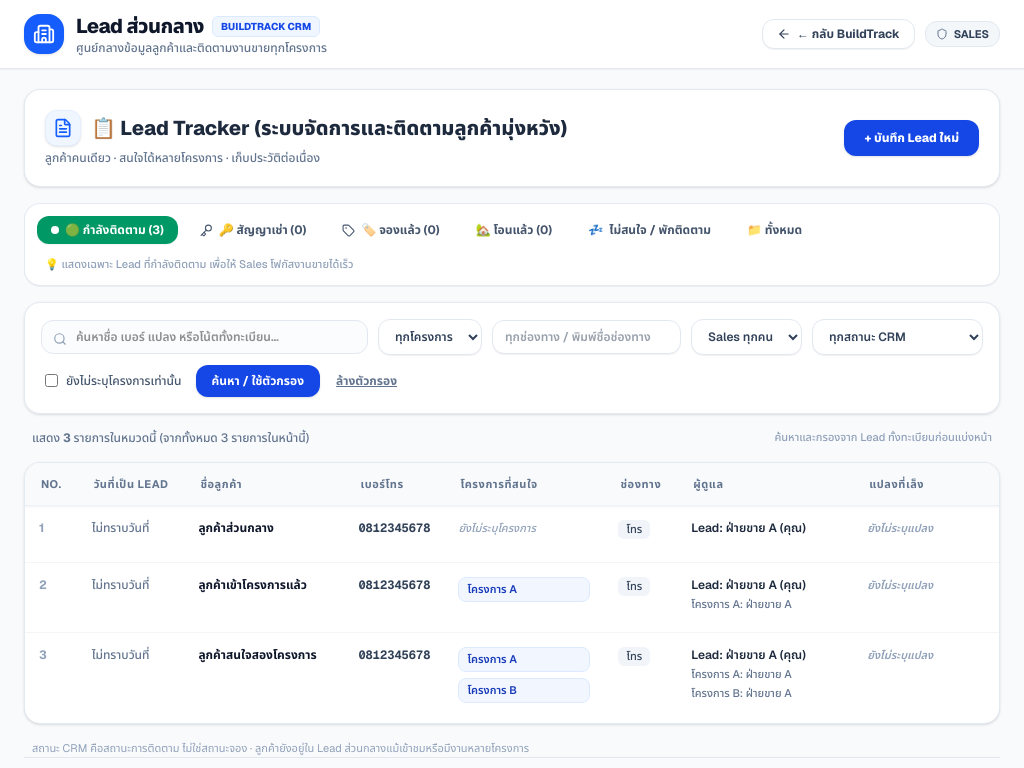
Test case: central lead workspace › keeps applied whole-registry filters on page changes and does not claim total count
Expected: the table is shown, [25,462,999,723]
Select "โครงการ B" in the dropdown named "โครงการที่สนใจ" at x=430, y=336, box [378,318,482,354]
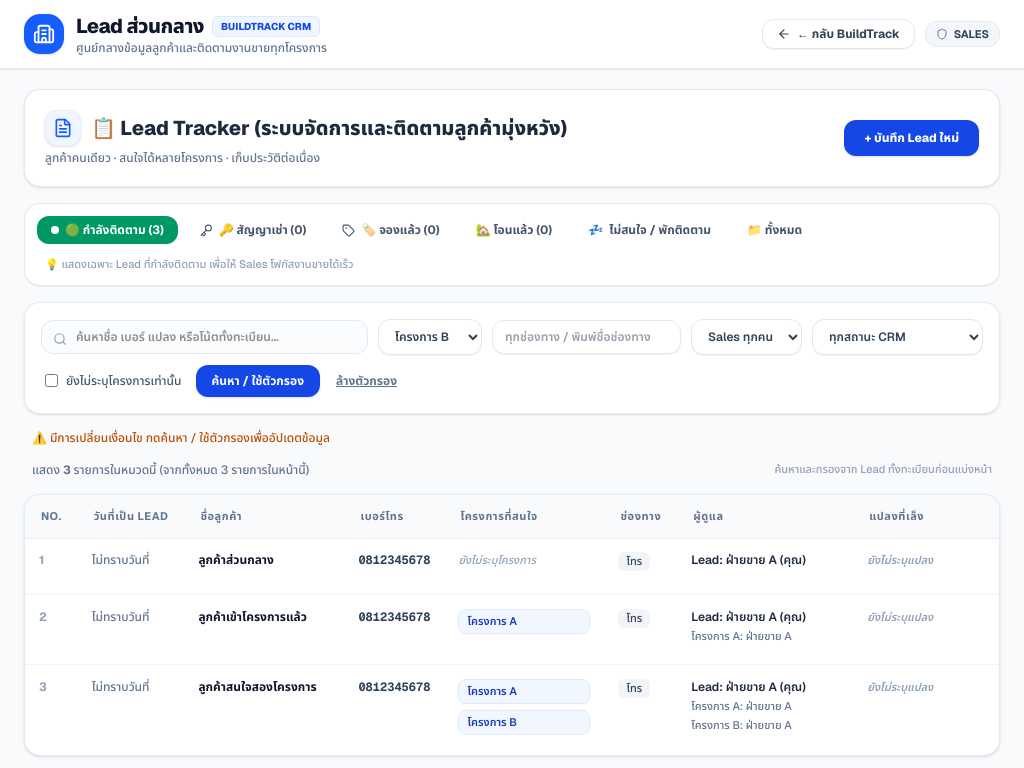
Click the button "ค้นหา / ใช้ตัวกรอง" at x=258, y=380, box [196,364,320,396]
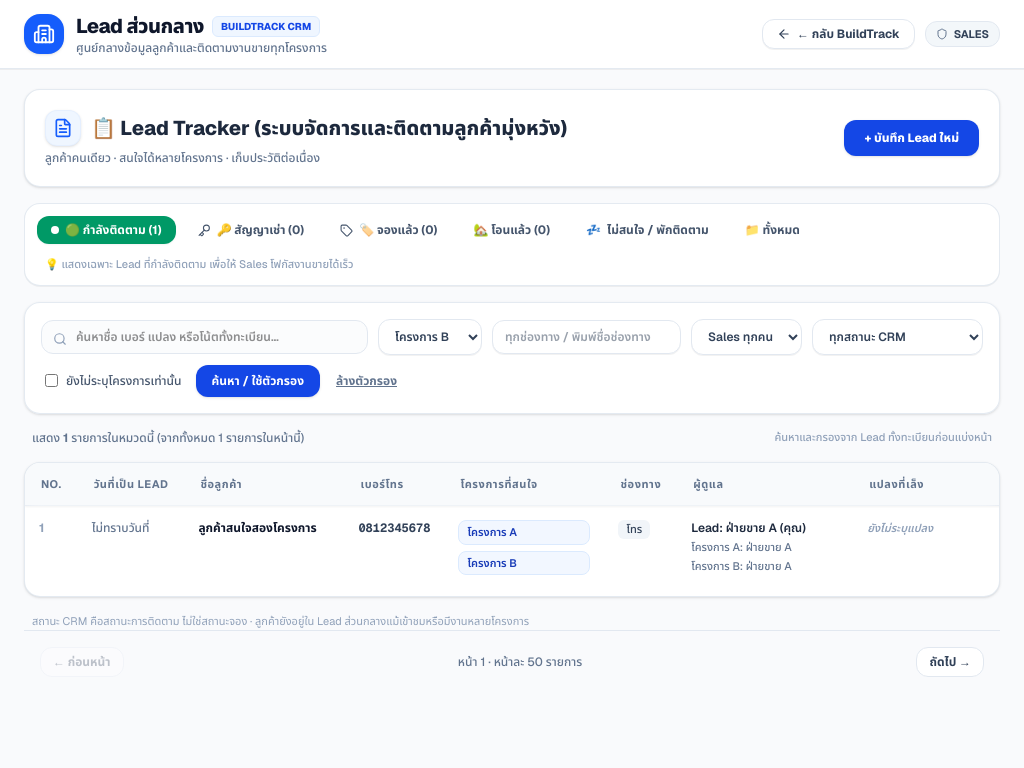
Expected: the table is shown, [25,462,999,596]
Click the button "ถัดไป →" at x=950, y=662, box [916,647,984,677]
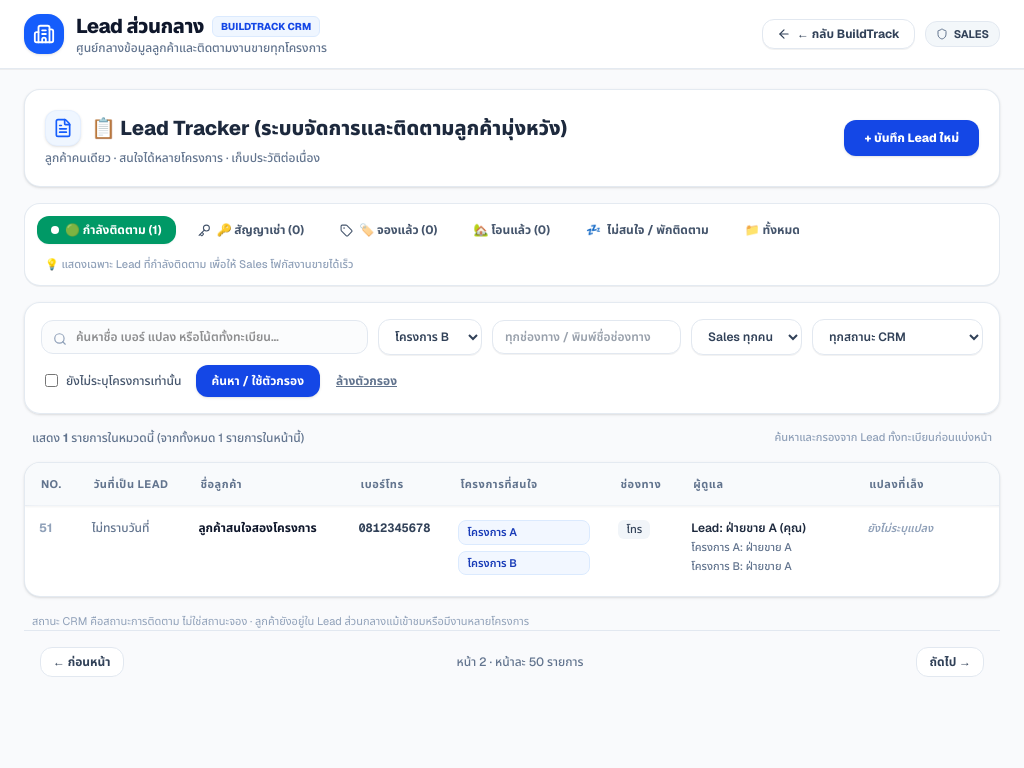
Expected: the text "ค้นหาและกรองจาก Lead ทั้งทะเบียนก่อนแบ่งหน้า" is shown, [774,430,992,445]
Now the dropdown named "โครงการที่สนใจ" shows "โครงการ B", box [378,318,482,354]
Now the text "หน้า 2 · หน้าละ 50 รายการ" is shown, box [456,654,584,670]
